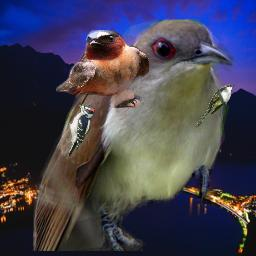Cuckoo: (33, 19, 234, 251), (195, 84, 235, 129)
Swallow: (56, 30, 149, 108)
Woodpecker: (66, 103, 95, 159)
